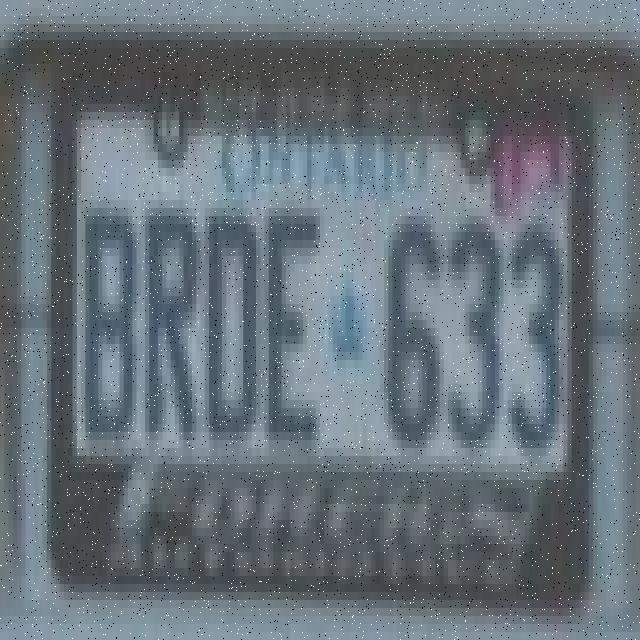licenseplate: (48, 56, 598, 600)
